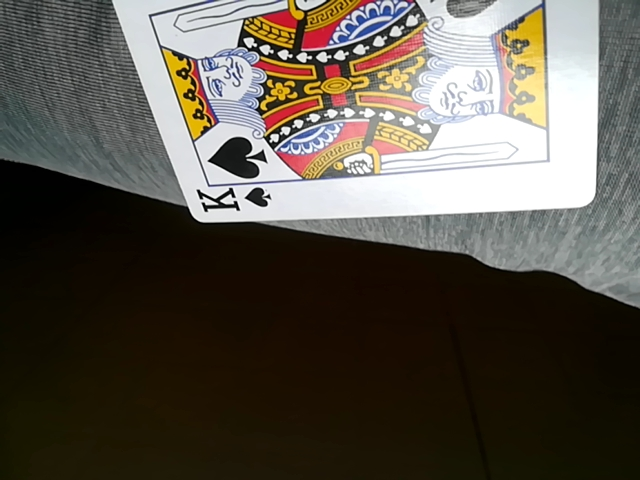ht k: (112, 2, 599, 229)
